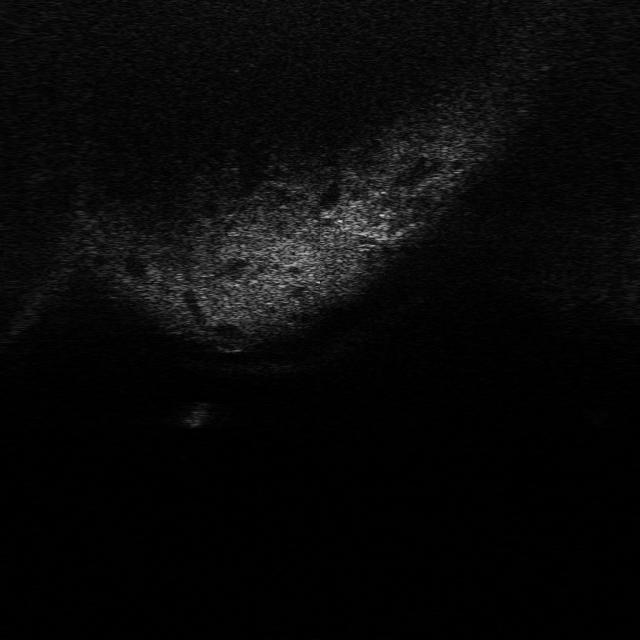cylinder: (180, 400, 214, 430)
